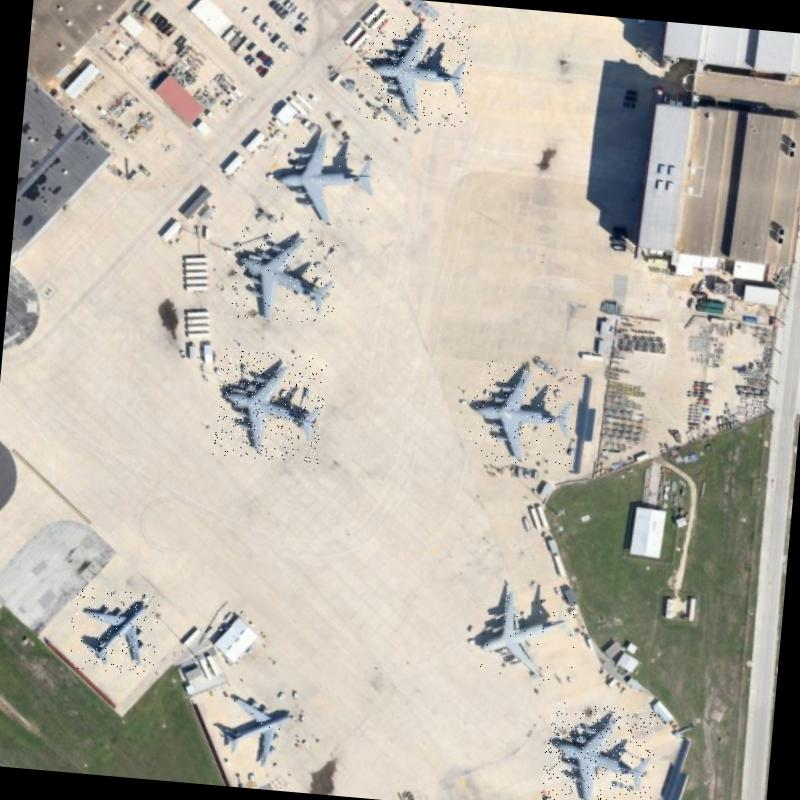A14: (67, 586, 160, 676), (214, 685, 298, 770)
A3: (358, 12, 475, 130), (212, 348, 328, 464), (467, 360, 580, 468), (268, 123, 382, 228), (541, 701, 659, 800), (230, 230, 340, 328), (477, 586, 578, 683)
